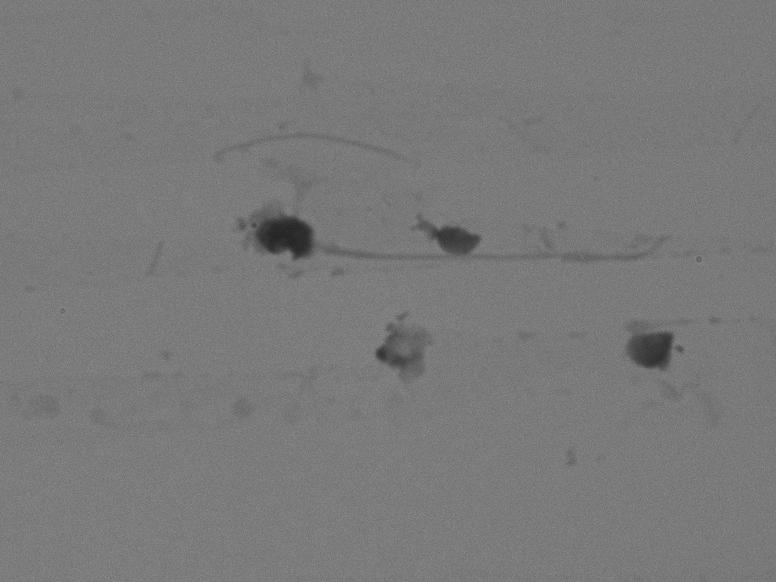Abnormal: (229, 153, 708, 301)
